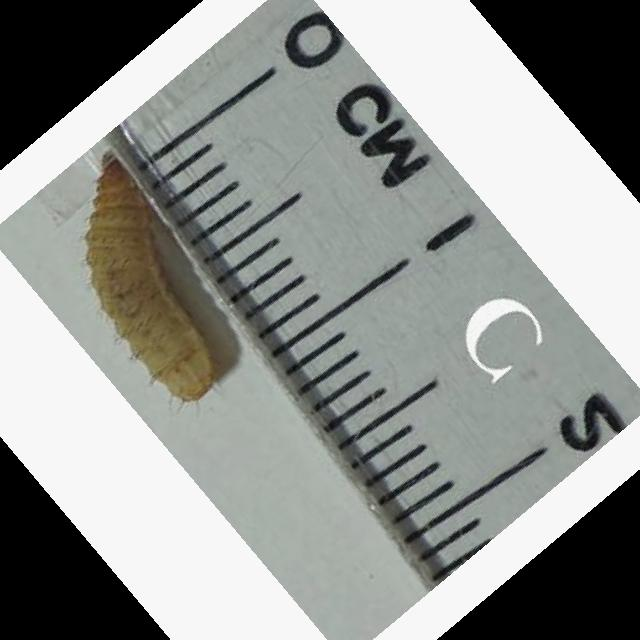Maggot: (83, 151, 210, 407)
